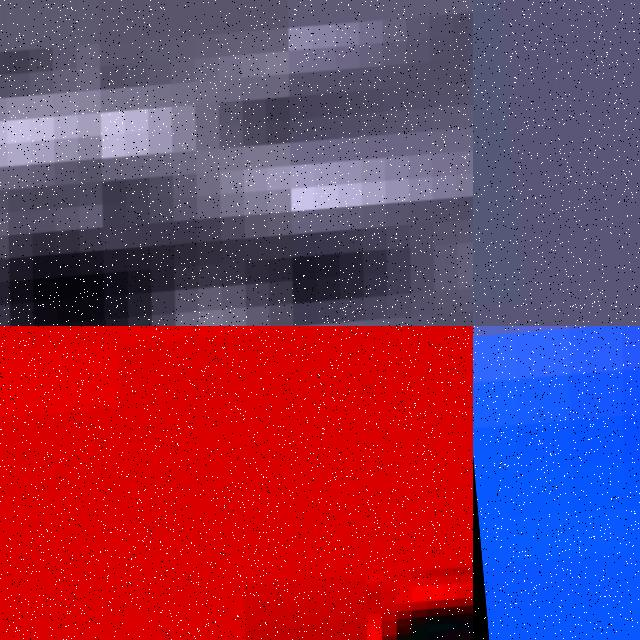drone: (0, 0, 473, 326), (0, 326, 473, 640), (473, 326, 640, 640)
